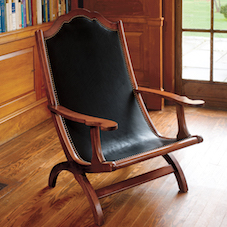chair: (22, 5, 210, 222)
